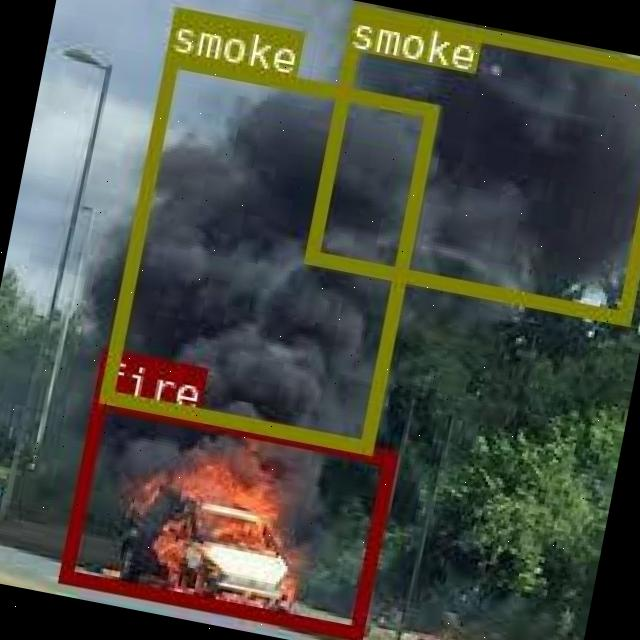fire: (59, 392, 395, 636)
smoke: (98, 51, 438, 452), (303, 3, 640, 322)
